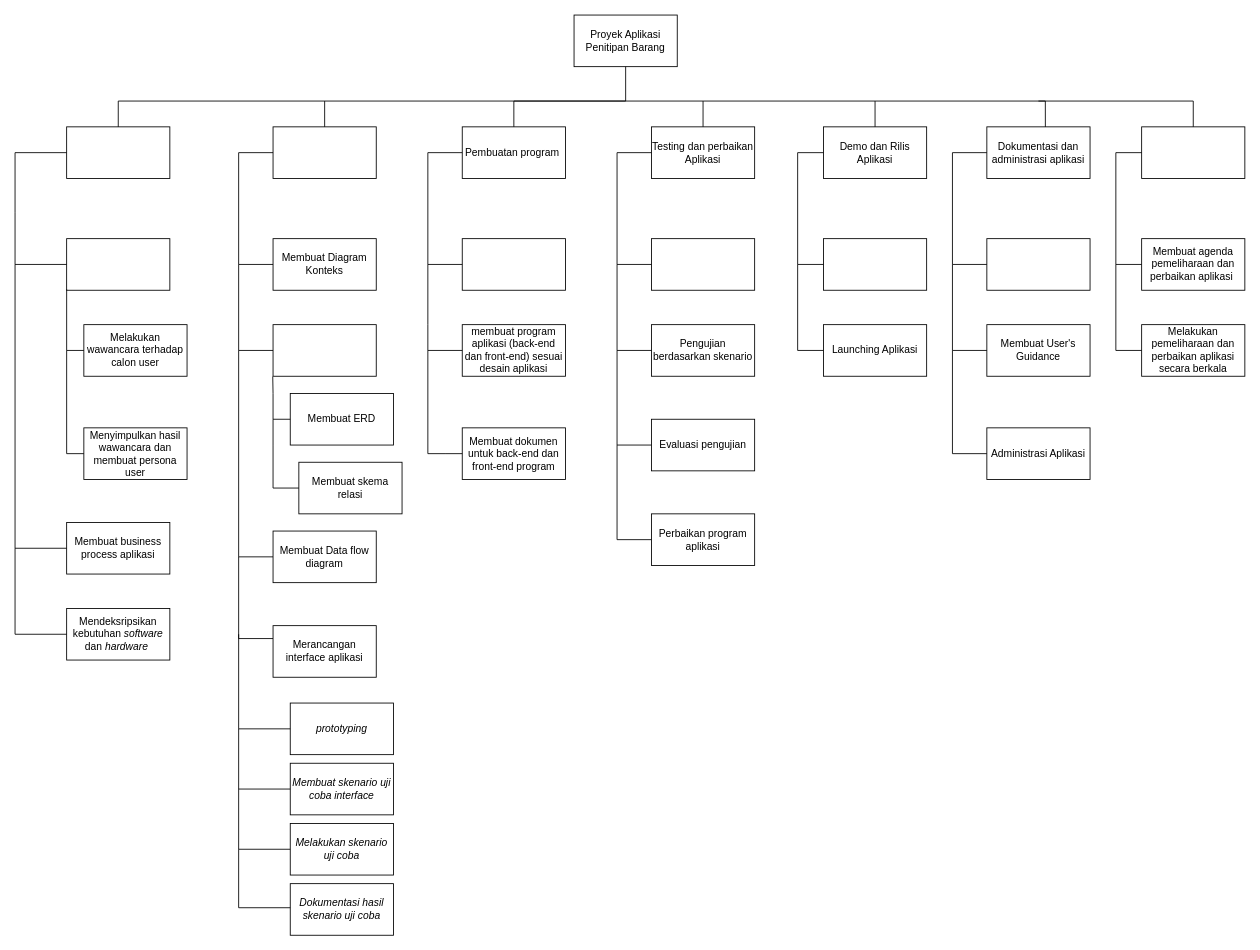
Image size: 1260x950. Some labels were removed from this diagram. The centre of each missing label's shape, as x and y in pixels:
Analisa Desain SIstem: the point at 118,152
Demo Aplikasi: the point at 875,264
Desain Aplikasi: the point at 324,152
Maintenance: the point at 1193,152
Melakukan riset pasar aplikasi penitipan barang: the point at 118,264
Membuat Rancangan Database: the point at 324,350
Membuat sistem database aplikasi: the point at 513,264
Membuat skenario testing: the point at 703,264
Membuat SOP Aplikasi: the point at 1038,264
